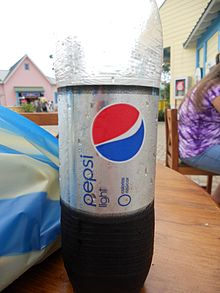pepsi: (91, 100, 144, 162)
